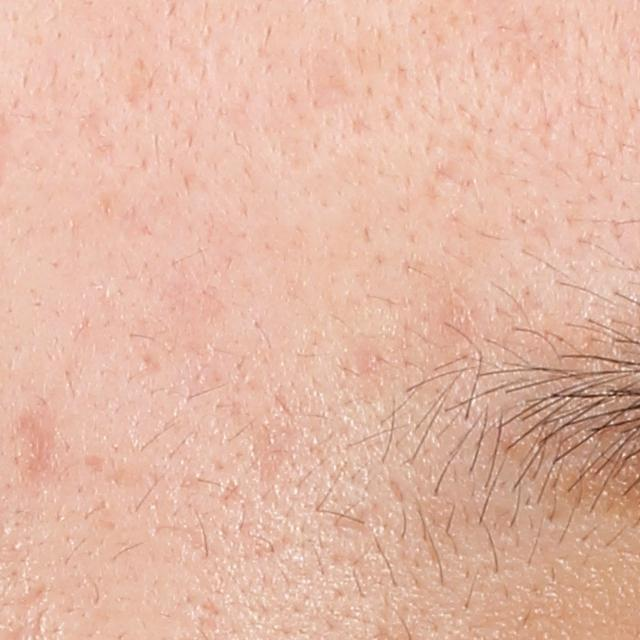atrophic_scar: (12, 409, 59, 489), (215, 470, 246, 512), (131, 349, 161, 380), (79, 453, 107, 472)
